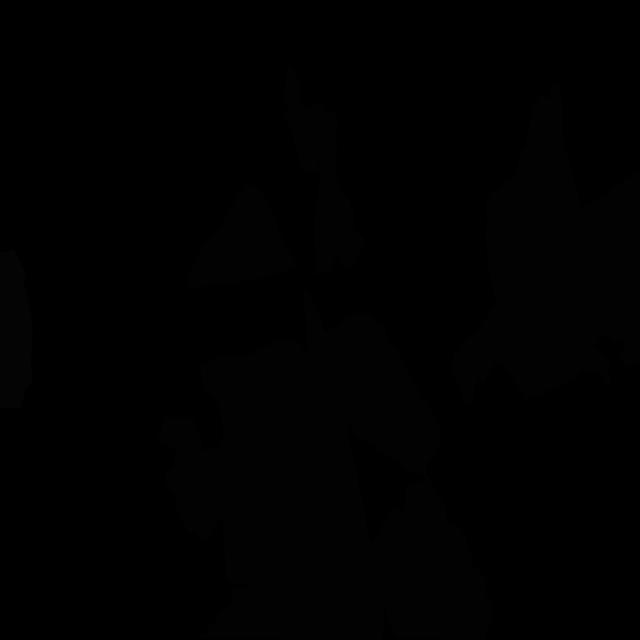cardboard: (196, 337, 384, 640), (478, 82, 611, 401), (370, 474, 493, 640), (324, 312, 441, 479), (284, 65, 366, 276), (187, 182, 298, 289), (582, 169, 640, 367), (157, 417, 228, 541), (452, 304, 505, 407), (303, 286, 328, 362)
soft_plastic: (0, 249, 33, 409)
